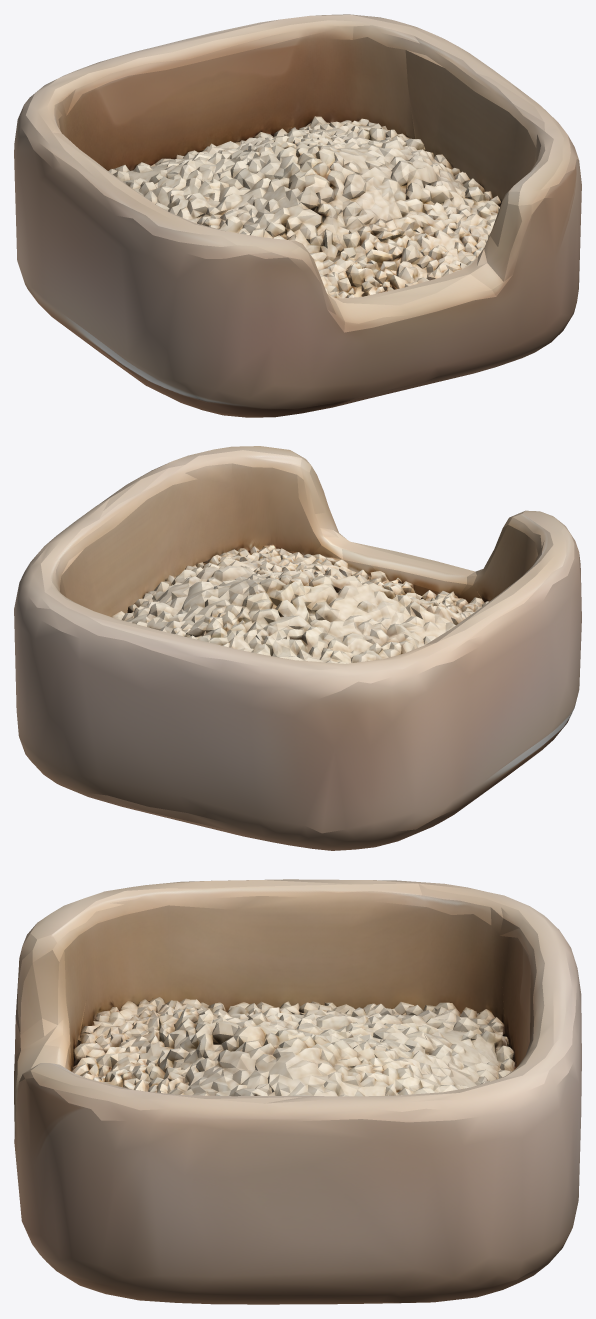
Rendered from LitterBox_Clean.glb.
3 views of the same model, one above another, from view 1: azimuth 30°, elevation 25°; view 2: azimuth 150°, elevation 25°; view 3: azimuth 270°, elevation 25° (orthographic). The views are drawn at different scales.
Visible parts, largest first — view 1: model; view 2: model; view 3: model.
Part boxes in pixels (x1,y1,x2,y2): model: (14,14,581,417); model: (14,446,581,850); model: (14,879,581,1304).
Bounding box in the file's own units: 1.86 × 0.8018 × 1.88.
Materials: 1 (1 with a texture image).
